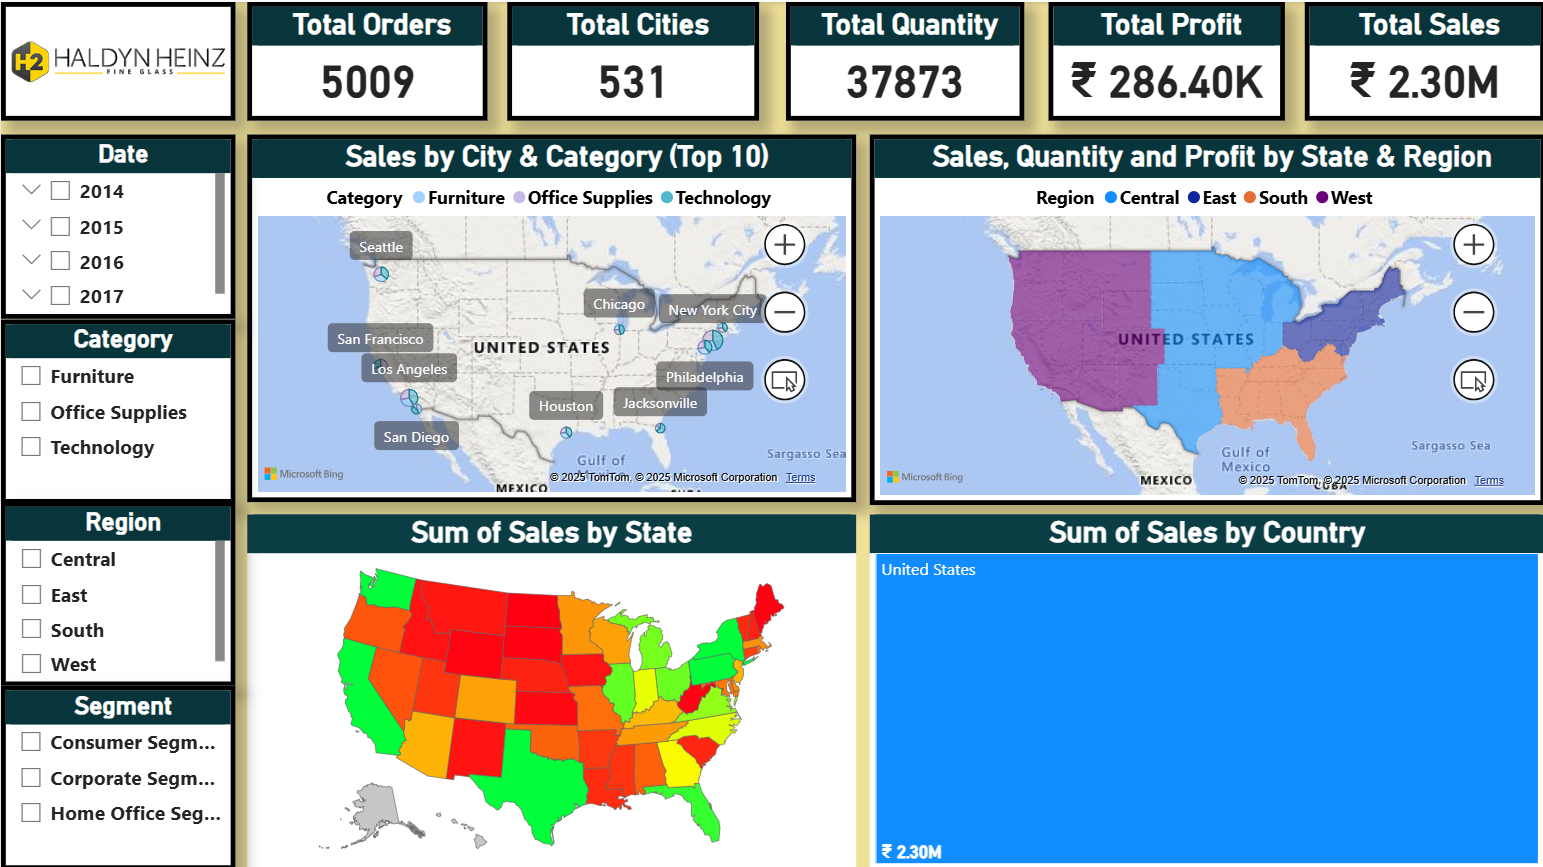

This screenshot's page, from the dashboard's own definition file:
{"tool":"powerbi","page":{"name":"Region Wise Analysis","canvas":[1280,720],"ordinal":4},"visuals":[{"type":"map","title":"Sales by City & Category (Top 10)","fields":{"Category":["Orders.City"],"Size":["Sum(Orders.Sales)"],"Series":["Orders.Category"]},"box":[204.5,109.8,505,304.6],"z":0},{"type":"filledMap","title":"Sales, Quantity and Profit by State & Region","fields":{"Category":["Orders.State"],"Series":["Orders.Region"]},"box":[720.4,109.8,559.9,307.4],"z":1000},{"type":"shapeMap","fields":{"Value":["Sum(Orders.Sales)"],"Category":["Orders.State"]},"box":[204.5,425.4,505,295],"z":2000},{"type":"treemap","fields":{"Group":["Orders.Country","Orders.Region","Orders.State","Orders.City"],"Values":["Sum(Orders.Sales)"]},"box":[720.4,425.4,559.9,295],"z":3000},{"type":"image","box":[0,0,194.8,98.8],"z":4000},{"type":"slicer","title":"Date","fields":{"Values":["Orders.Order Date.Variation.Date Hierarchy.Year","Orders.Order Date.Variation.Date Hierarchy.Quarter","Orders.Order Date.Variation.Date Hierarchy.Month","Orders.Order Date.Variation.Date Hierarchy.Day"]},"box":[0,109.9,194.8,153],"z":5000},{"type":"slicer","title":"Category","fields":{"Values":["Orders.Category"]},"box":[0,263,194.8,153],"z":6000},{"type":"slicer","title":"Region","fields":{"Values":["Orders.Region"]},"box":[0,414.6,194.8,153],"z":7000},{"type":"slicer","title":"Segment","fields":{"Values":["Orders.Segment"]},"box":[0,567,194.8,153],"z":8000},{"type":"card","title":"Total Sales","fields":{"Values":["Sum(Orders.Sales)"]},"box":[1081,0,199,98.8],"z":9000},{"type":"card","title":"Total Quantity","fields":{"Values":["Sum(Orders.Quantity)"]},"box":[651.1,0,197.6,98.8],"z":10000},{"type":"card","title":"Total Cities","fields":{"Values":["Count(Orders.City)"]},"box":[420.2,0,208.7,98.8],"z":11000},{"type":"card","title":"Total Orders","fields":{"Values":["Count(Orders.Order ID)"]},"box":[204.5,0,199,98.8],"z":12000},{"type":"card","title":"Total Profit","fields":{"Values":["Sum(Orders.Profit)"]},"box":[868.2,0,196.2,98.8],"z":13000}]}

Visuals, with their boxes in screenshot pixels (x1, y1, x2, y2), scaled from the page's 1280x720 canvas onto the 1543x867 screenshot:
"Sales by City & Category (Top 10)" map: 247 132 855 499
"Sales, Quantity and Profit by State & Region" filledMap: 868 132 1542 502
shapeMap - Sum(Orders.Sales) x Orders.State: 247 512 855 866
treemap - Orders.Country x Orders.Region: 868 512 1542 866
image: 0 0 235 119
"Date" slicer: 0 132 235 317
"Category" slicer: 0 317 235 501
"Region" slicer: 0 499 235 683
"Segment" slicer: 0 683 235 866
"Total Sales" card: 1303 0 1542 119
"Total Quantity" card: 785 0 1023 119
"Total Cities" card: 507 0 758 119
"Total Orders" card: 247 0 486 119
"Total Profit" card: 1047 0 1283 119
